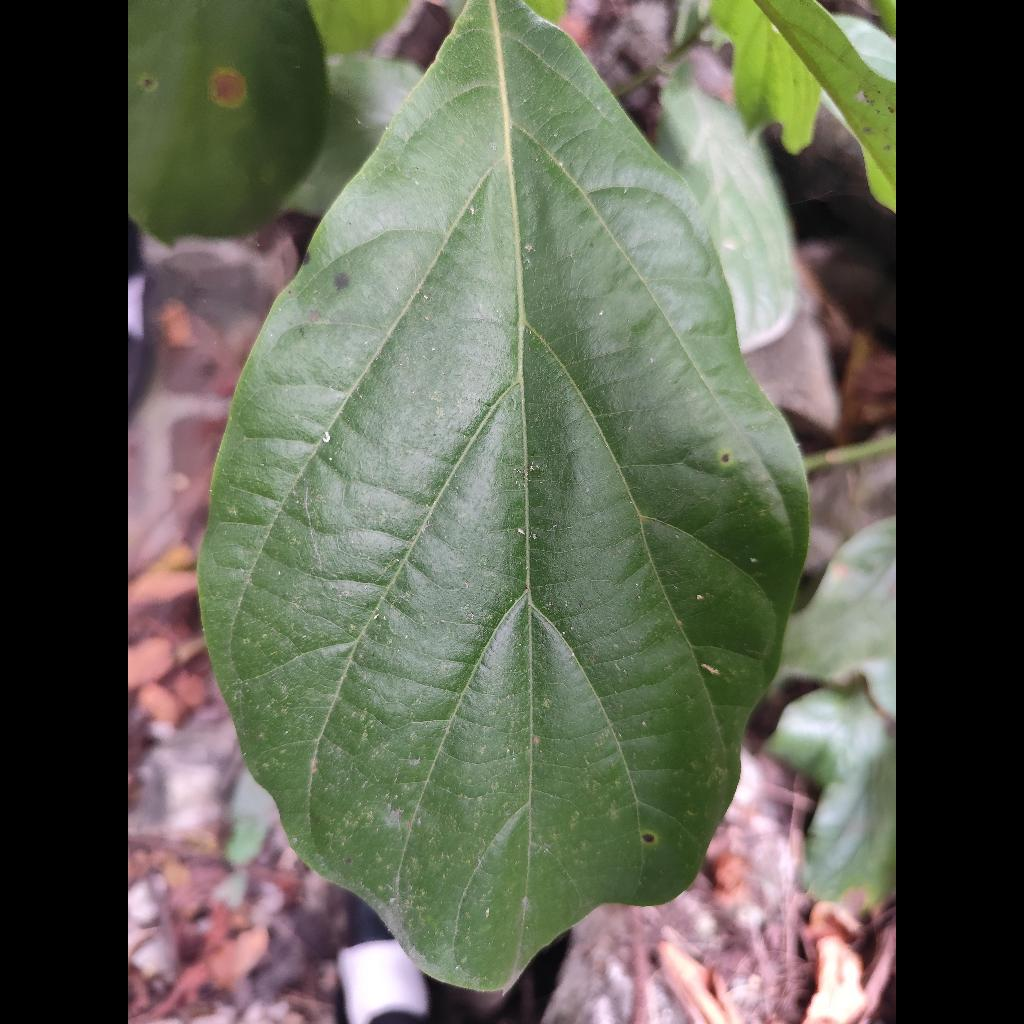hoja_sana: (199, 0, 807, 989)
